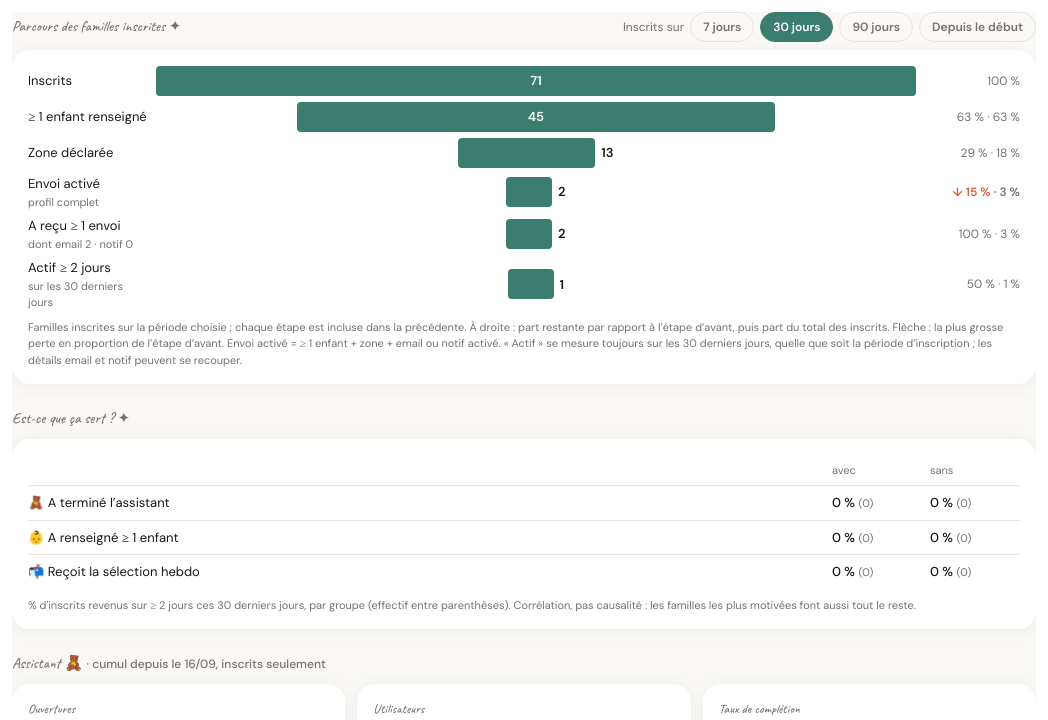
Scenario: EngagementTab — entonnoir › change de cohorte au clic et prévient que celle de 7 jours est récente
Click the button "7 jours".
click(722, 27)  # box x1=690 y1=12 x2=754 y2=42
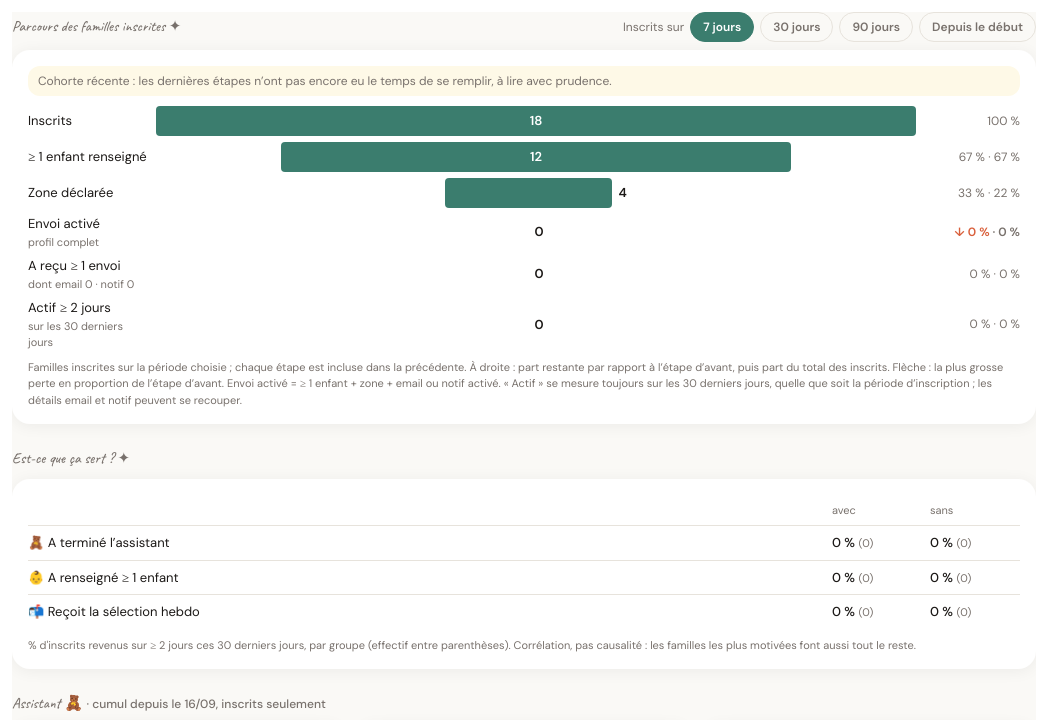
Check: the text "18" is shown, box x1=530 y1=111 x2=542 y2=131
Check: the text "Cohorte récente" is shown, box x1=38 y1=73 x2=612 y2=89
Click the button "Depuis le début".
click(978, 27)  # box x1=919 y1=12 x2=1036 y2=42
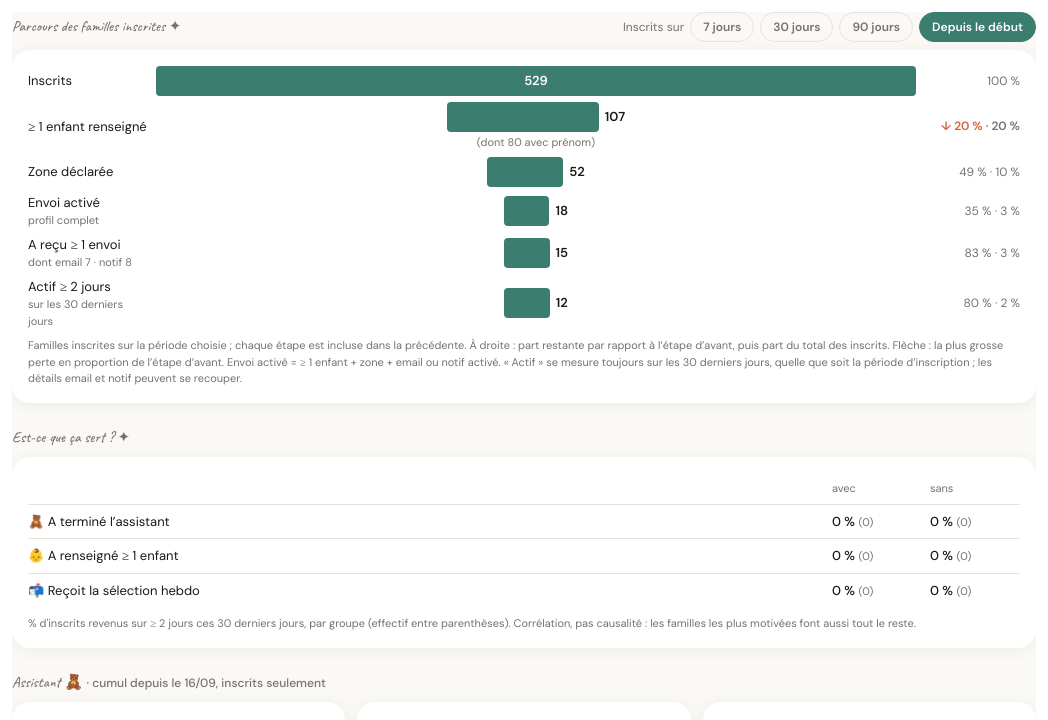
Check: the text "529" is shown, box x1=524 y1=71 x2=548 y2=91
Check: the text "dont email 7 · notif 8" is shown, box x1=28 y1=254 x2=148 y2=270
